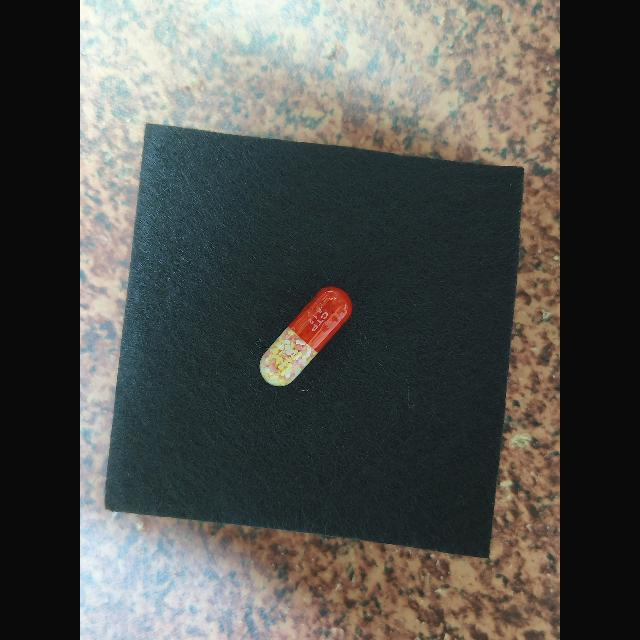Intact Capsule: (259, 287, 353, 387)
